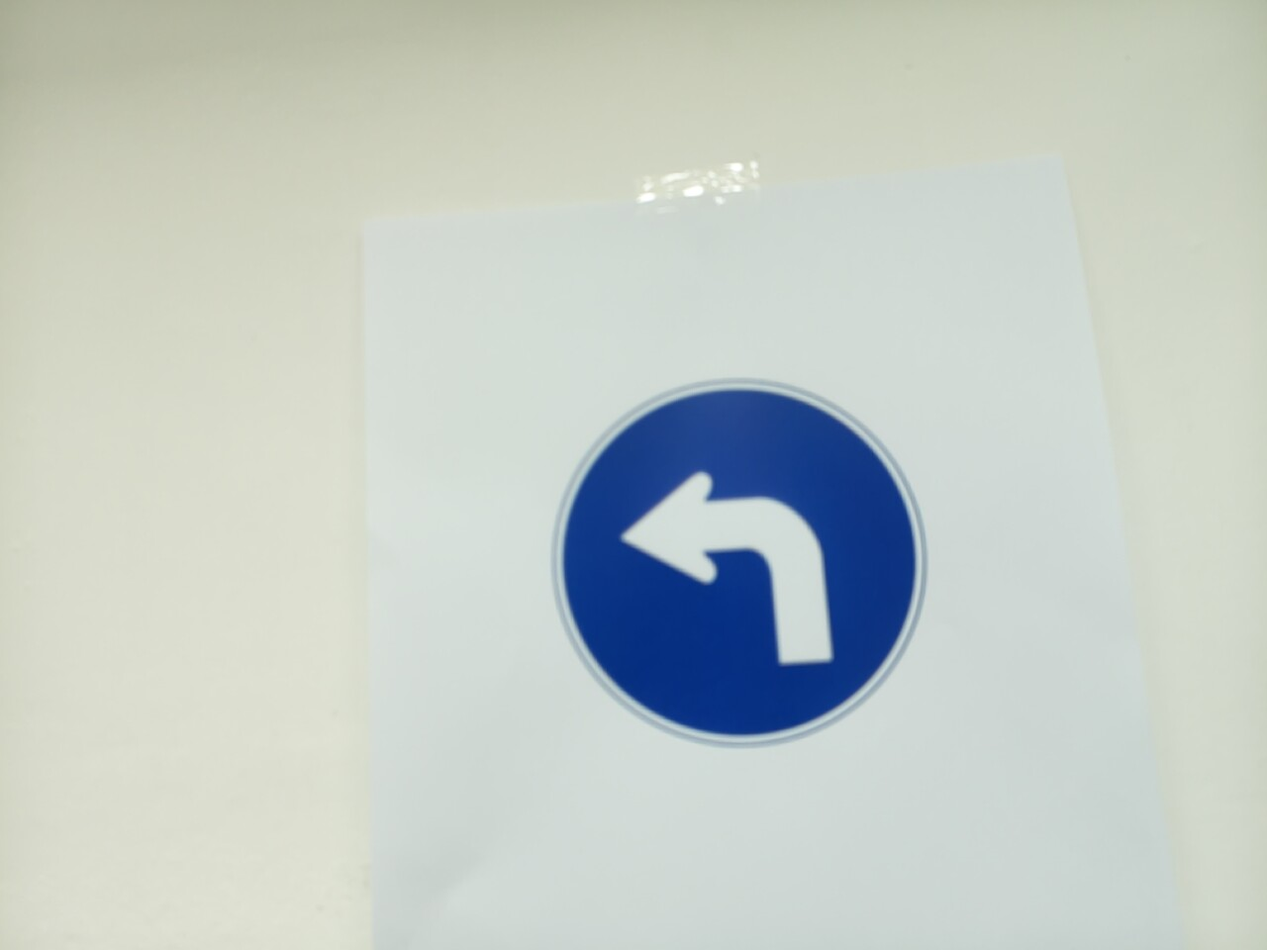left_turn: (552, 379, 926, 746)
